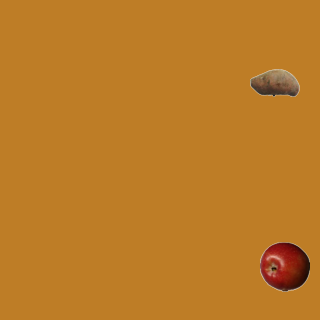Apple Braeburn: (259, 241, 309, 291)
Potato Sweet: (249, 57, 299, 107)
